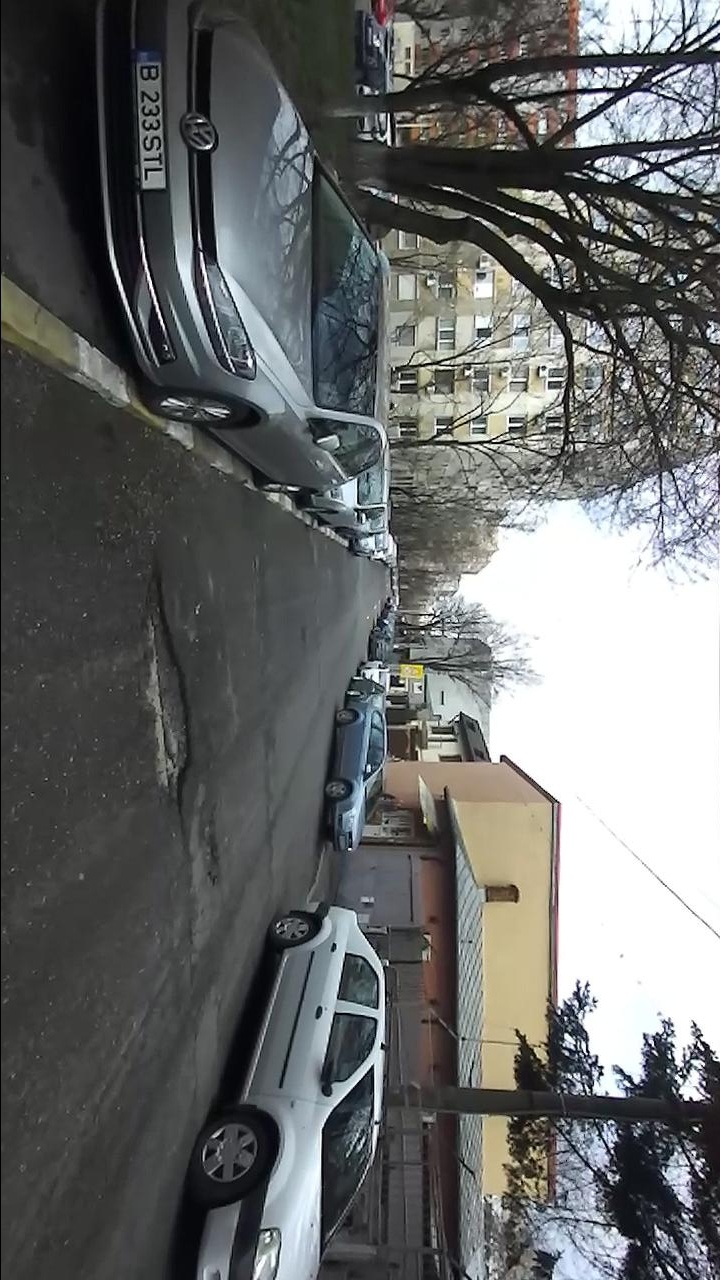pothole: (138, 559, 196, 844), (204, 803, 229, 892)
